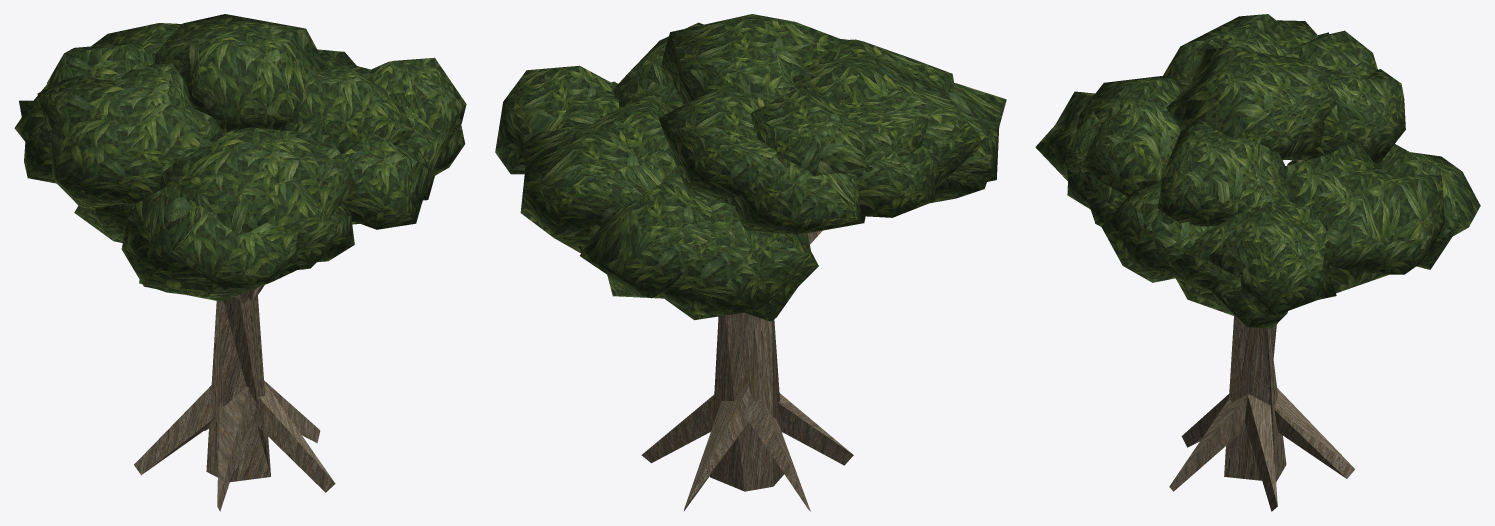
Rendered from tree_jungle_a.gltf.
The picture shows the model from 3 angles, left to right: view 1: azimuth 30°, elevation 25°; view 2: azimuth 150°, elevation 25°; view 3: azimuth 270°, elevation 25°; orthographic projection. The views are drawn at different scales.
Visible parts, largest first — view 1: tree_jungle_a_game; view 2: tree_jungle_a_game; view 3: tree_jungle_a_game.
Part boxes in pixels (x1,y1,x2,y2): tree_jungle_a_game: (14,14,466,511); tree_jungle_a_game: (495,14,1006,511); tree_jungle_a_game: (1035,14,1480,511).
Size of the model in its own units: 0.4777 by 0.4629 by 0.4533.
2 materials, 2 textured.
